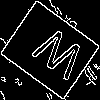W: (25, 25, 88, 90)
